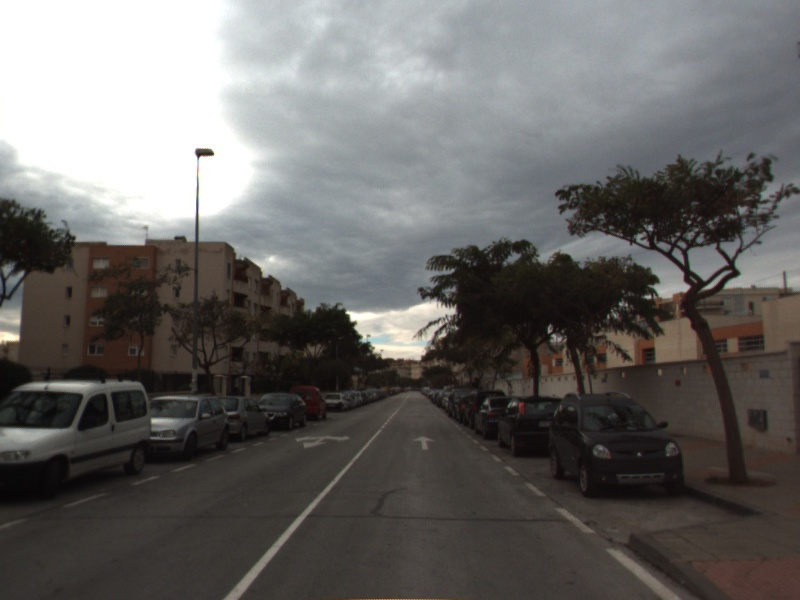STRAIGHT: (411, 434, 438, 451)
